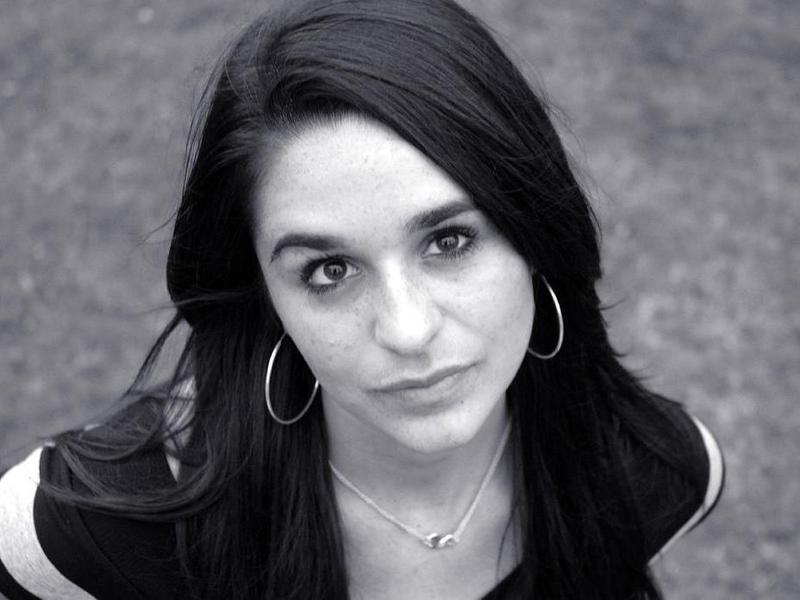person: (1, 4, 713, 595)
